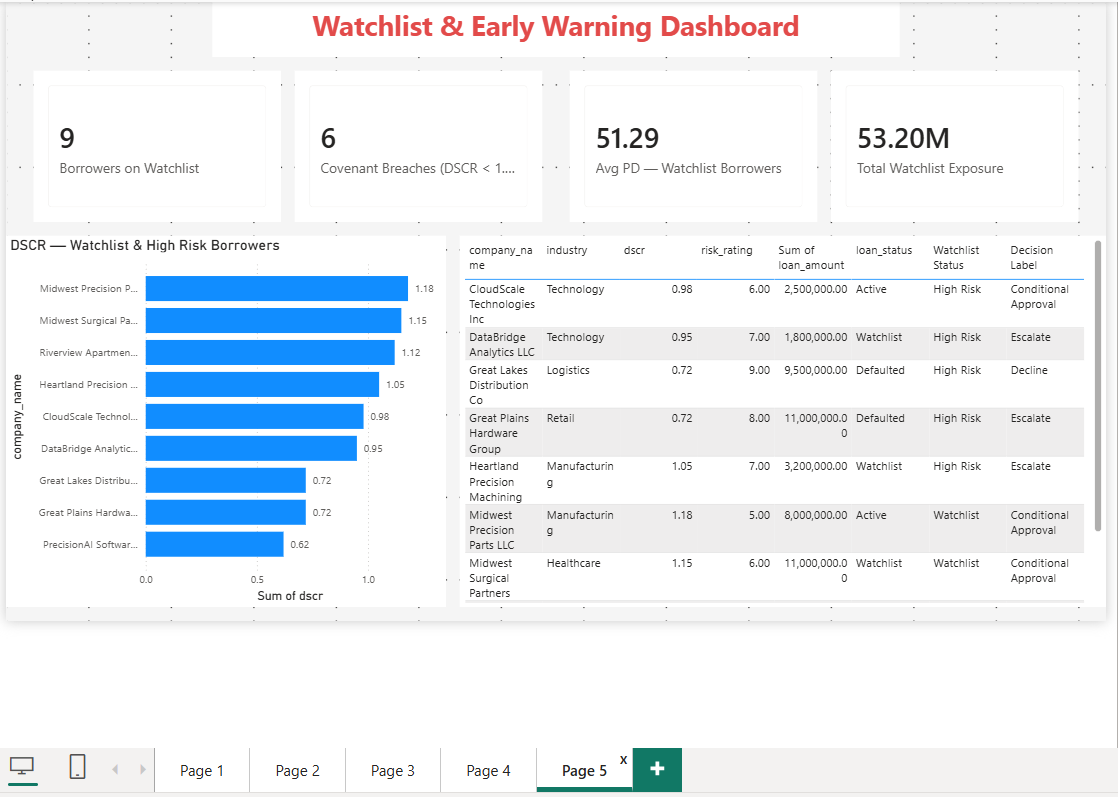

The dashboard page shown, as its layout file describes it:
{"tool":"powerbi","page":{"name":"Page 5","canvas":[1280,720],"ordinal":4},"visuals":[{"type":"textbox","box":[240,0,800,64],"z":0},{"type":"cardVisual","fields":{"Data":["Sum(borrowers_data.Watchlist Flag)"]},"box":[32,80,288,176],"z":1},{"type":"cardVisual","fields":{"Data":["HHI_Data.Covenant Breaches"]},"box":[336,80,288,176],"z":2},{"type":"cardVisual","fields":{"Data":["HHI_Data.Watchlist Exposure"]},"box":[960,80,288,176],"z":3},{"type":"cardVisual","fields":{"Data":["HHI_Data.Avg PD Watchlist"]},"box":[656,80,288,176],"z":4},{"type":"clusteredBarChart","title":"DSCR — Watchlist & High Risk Borrowers","fields":{"Category":["borrowers_data.company_name"],"Y":["Sum(borrowers_data.dscr)"]},"box":[0,272,512,432],"z":5},{"type":"tableEx","fields":{"Values":["borrowers_data.company_name","borrowers_data.industry","borrowers_data.dscr","borrowers_data.risk_rating","Sum(borrowers_data.loan_amount)","borrowers_data.loan_status","borrowers_data.Watchlist Status","borrowers_data.Decision Label"]},"box":[528,272,752,432],"z":6}]}

Visuals, with their boxes on the page's 1280x720 design canvas (x1, y1, x2, y2). These are canvas units, not pixel positions in the 1118x797 screenshot, which may show the page scaled, cropped or inside an application window:
textbox: BBox(240, 0, 1040, 64)
cardVisual - Sum(borrowers_data.Watchlist Flag): BBox(32, 80, 320, 256)
cardVisual - HHI_Data.Covenant Breaches: BBox(336, 80, 624, 256)
cardVisual - HHI_Data.Watchlist Exposure: BBox(960, 80, 1248, 256)
cardVisual - HHI_Data.Avg PD Watchlist: BBox(656, 80, 944, 256)
"DSCR — Watchlist & High Risk Borrowers" clusteredBarChart: BBox(0, 272, 512, 704)
tableEx - borrowers_data.company_name x borrowers_data.industry: BBox(528, 272, 1280, 704)
